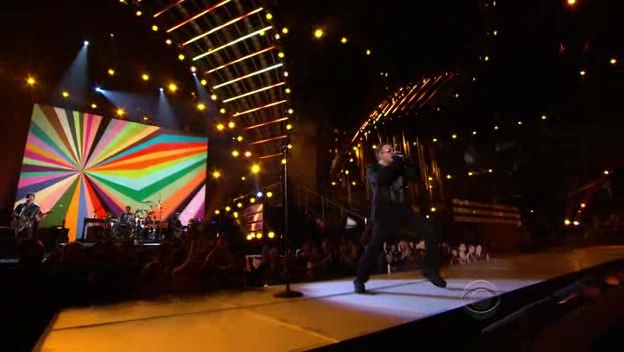person: (363, 139, 423, 246), (360, 139, 420, 246), (366, 139, 426, 246), (363, 136, 423, 243), (363, 142, 423, 249)
target_negative: (19, 165, 437, 298), (16, 218, 559, 299), (387, 133, 466, 345), (379, 43, 508, 88), (504, 261, 591, 271), (190, 346, 328, 351)
